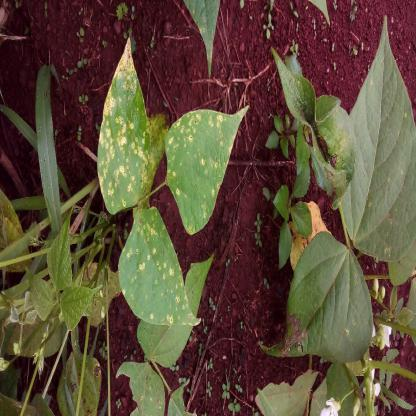Beans_Rust: (164, 102, 252, 237), (96, 36, 155, 212), (117, 206, 202, 326)
